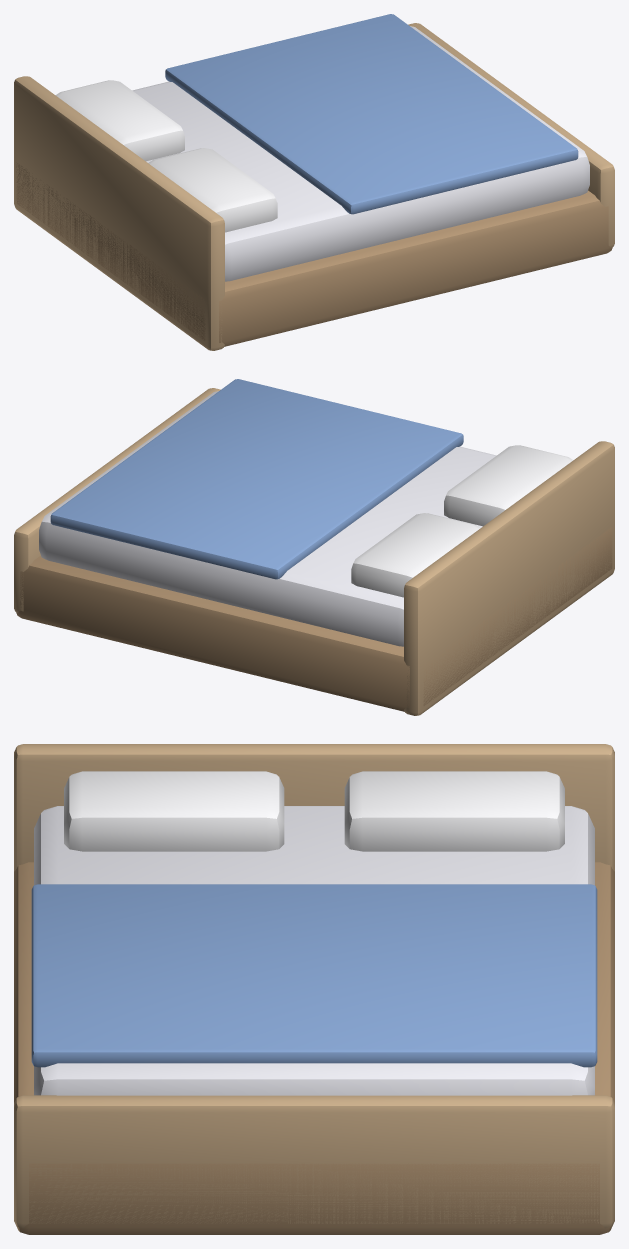
File: prop_bed.glb
The picture shows the model from 3 angles, top to bottom: view 1: azimuth 30°, elevation 25°; view 2: azimuth 150°, elevation 25°; view 3: azimuth 270°, elevation 25°; orthographic projection. The views are drawn at different scales.
Parts seen in each view (by area): view 1: bed; view 2: bed; view 3: bed.
Boxes of the visible parts, box(x1,y1,x2,y2) form: bed: box(14, 14, 614, 350); bed: box(14, 379, 614, 715); bed: box(14, 744, 614, 1234).
Size of the model in its own units: 71 by 22 by 60.
